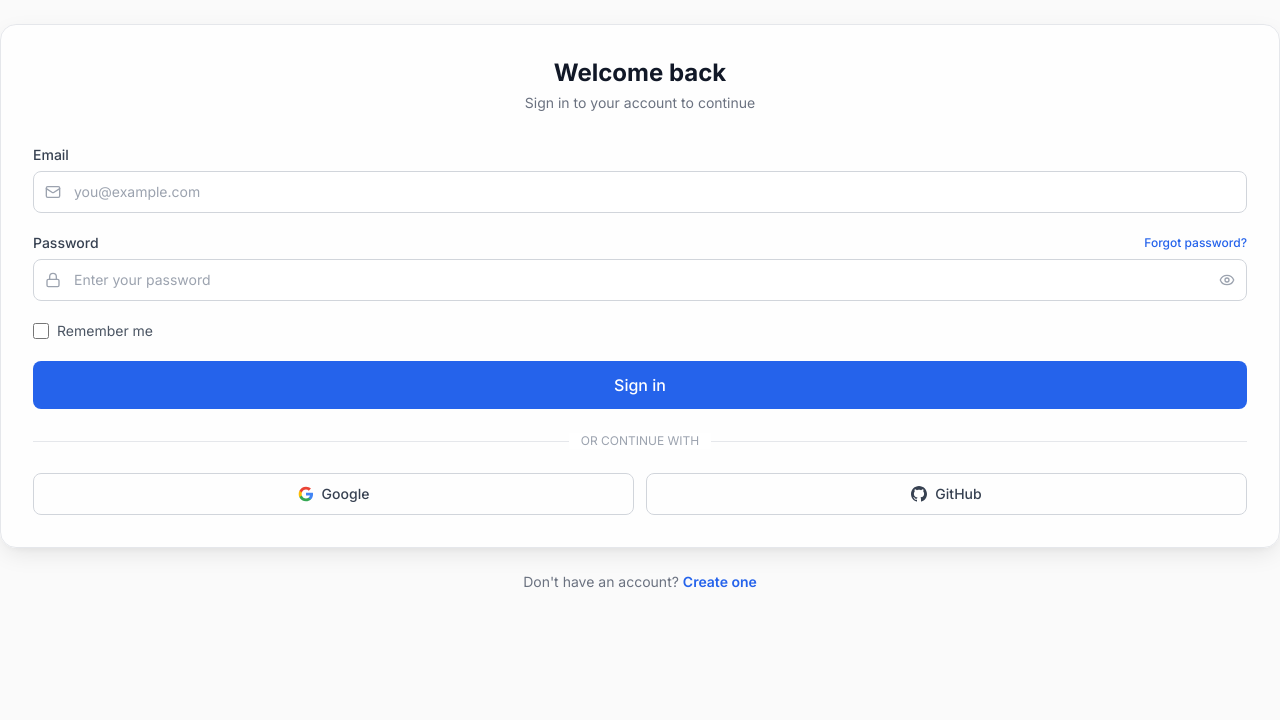
Test case: LoginPage › shows error on login failure
Type "bad@example.com" into the field with placeholder "you@example.com".
click(640, 192); type("bad@example.com")  # box 33,171 -> 1247,213
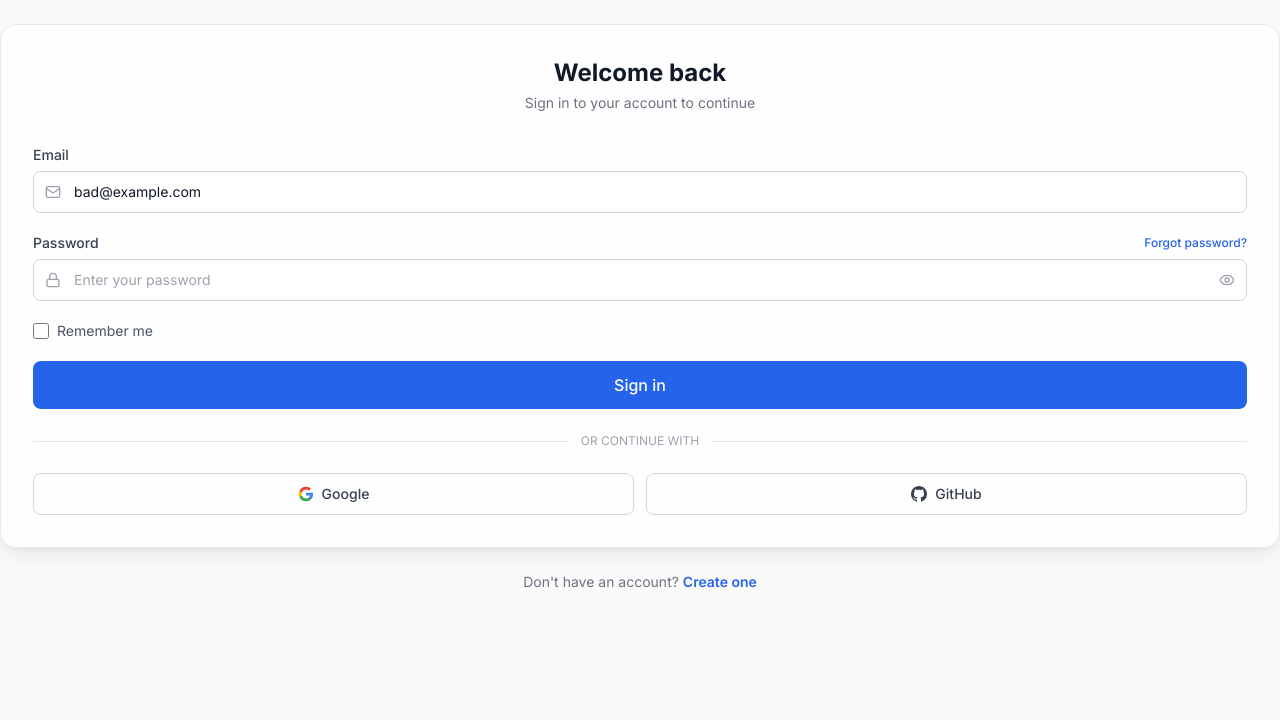
Type "wrong" into the password field with placeholder "Enter your password".
click(640, 280); type("wrong")  # box 33,259 -> 1247,301
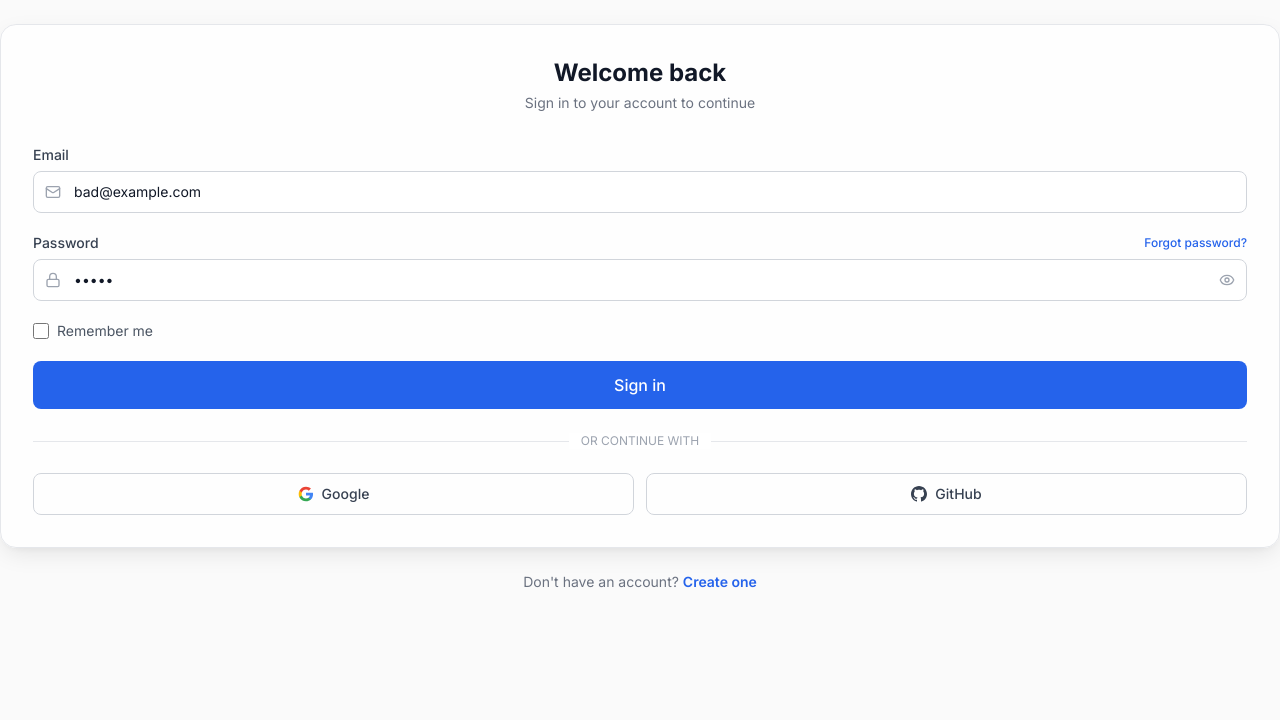
Submit the text "Sign in", box 33,145 -> 1247,409
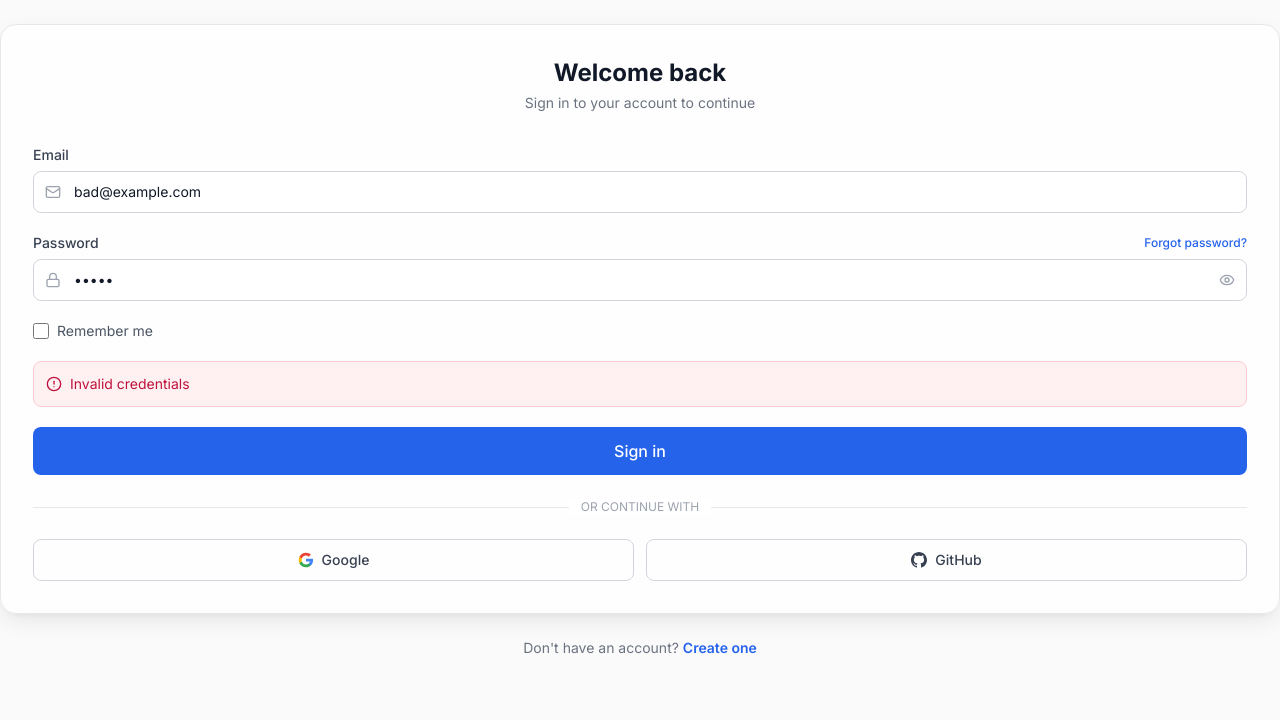
Check: the text "Invalid credentials" is shown, box 33,361 -> 1247,407
